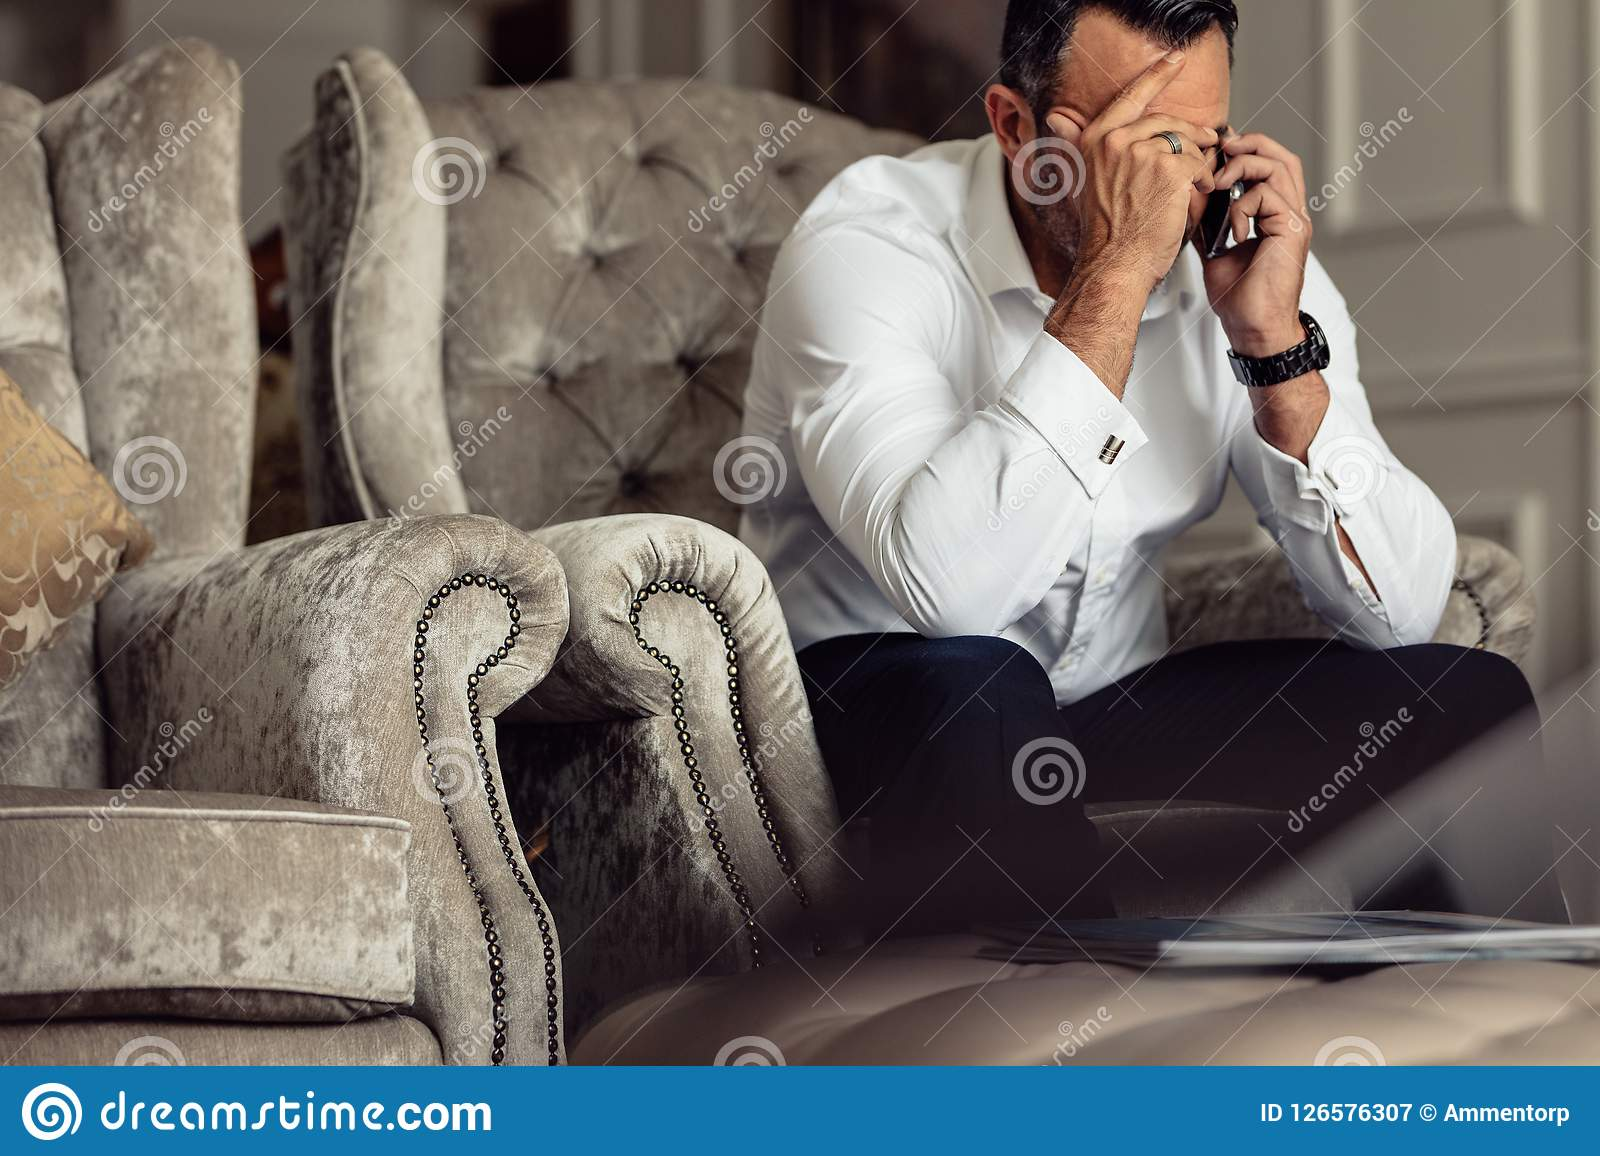phone: (1198, 125, 1248, 261)
talk: (1057, 91, 1316, 322)
